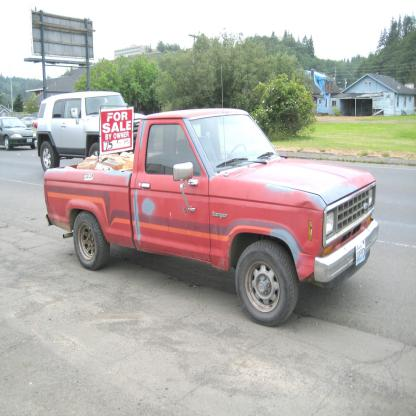Car: (51, 106, 368, 325), (35, 88, 156, 174), (0, 115, 38, 154), (21, 113, 38, 130)
Truck: (47, 105, 376, 334)
